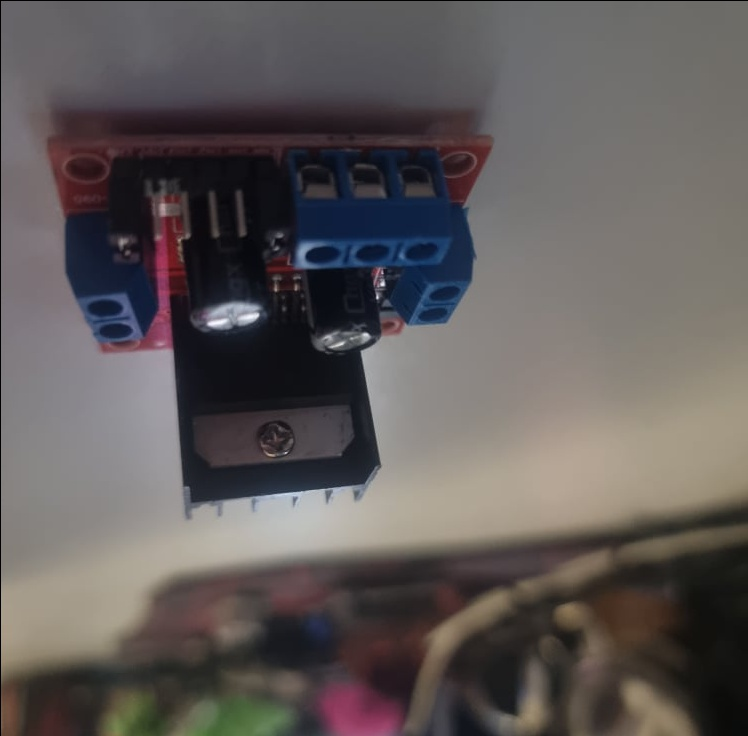MOTOR: (48, 130, 495, 522)
